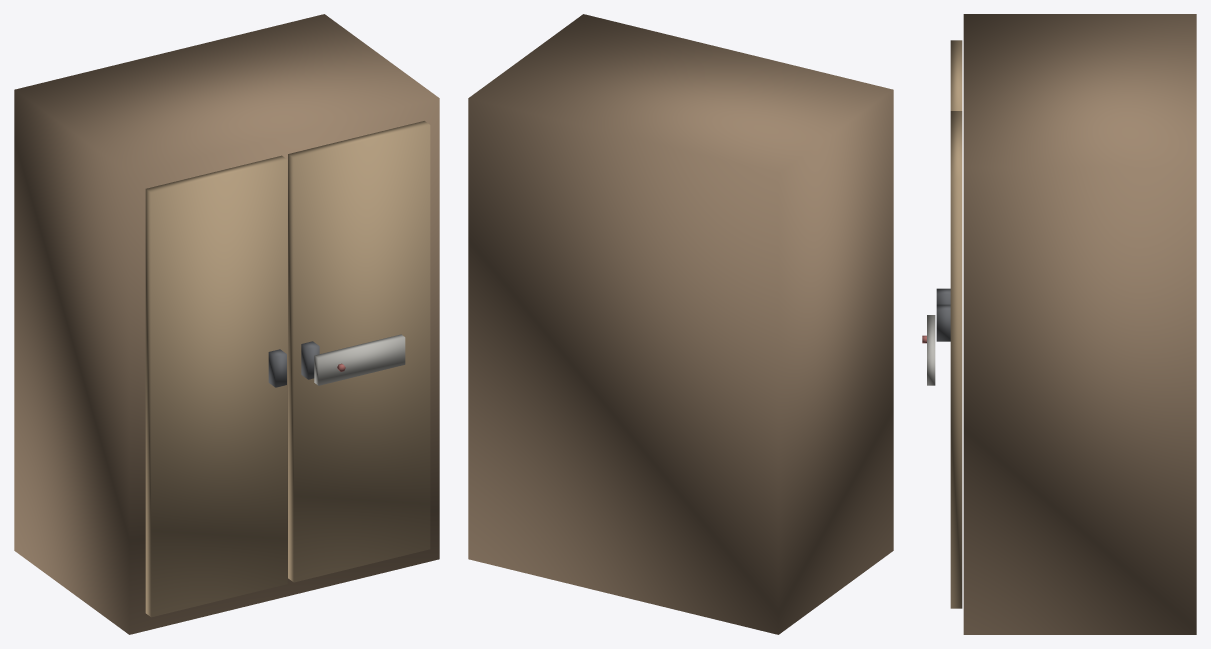
Rendered from photo_chemical_cabinet__deep.glb.
3 renders of one model, left to right at view 1: azimuth 30°, elevation 25°; view 2: azimuth 150°, elevation 25°; view 3: azimuth 270°, elevation 25°, orthographic.
Visible parts, largest first — view 1: world; view 2: world; view 3: world.
Part boxes in pixels (x1,y1,x2,y2): world: (14,14,439,634); world: (468,14,893,634); world: (922,14,1196,634).
Bounding box in the file's own units: 0.95 × 1.35 × 0.718.
